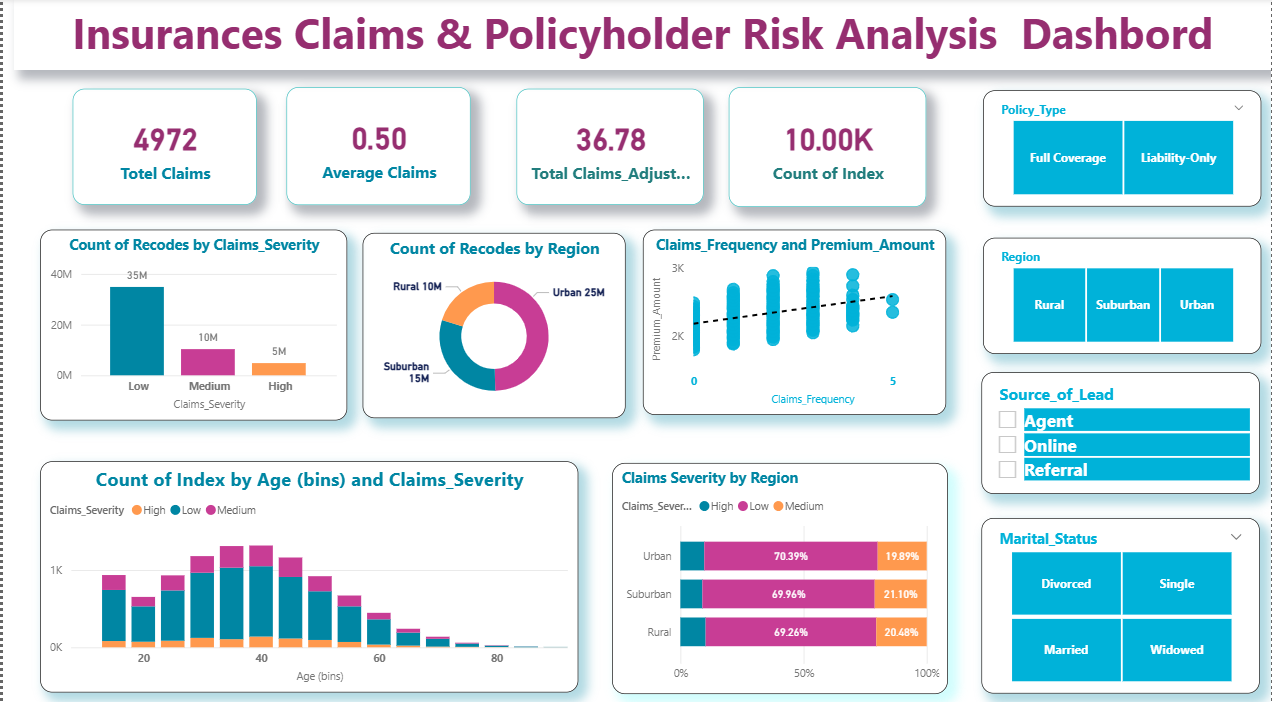

The dashboard page shown, as its layout file describes it:
{"tool":"powerbi","page":{"name":"Page 1","canvas":[1280,720],"ordinal":0},"visuals":[{"type":"textbox","box":[11,0,1269.1,72.3],"z":0},{"type":"card","fields":{"Values":["Sum(synthetic_insurance_data.Claims_Frequency)"]},"box":[69.8,91.9,185.5,117.5],"z":1000},{"type":"card","fields":{"Values":["Avg(synthetic_insurance_data.Claims_Frequency)"]},"box":[286,90.2,185.5,119.2],"z":2000},{"type":"card","fields":{"Values":["Avg(synthetic_insurance_data.Claims_Adjustment)"]},"box":[519.2,91.9,188.9,117.5],"z":3000},{"type":"columnChart","fields":{"Category":["synthetic_insurance_data.Claims_Severity"],"Y":["Sum(synthetic_insurance_data.Index)"]},"box":[37.4,233.2,309.8,192.4],"z":4000},{"type":"columnChart","fields":{"Y":["CountNonNull(synthetic_insurance_data.Index)"],"Category":["synthetic_insurance_data.Age (bins)"],"Series":["synthetic_insurance_data.Claims_Severity"]},"box":[37.4,468.1,543,233.2],"z":5000},{"type":"donutChart","fields":{"Y":["Sum(synthetic_insurance_data.Index)"],"Category":["synthetic_insurance_data.Region"]},"box":[362.6,236.6,265.5,187.2],"z":6000},{"type":"hundredPercentStackedBarChart","title":"Claims Severity by Region","fields":{"Category":["synthetic_insurance_data.Region"],"Y":["CountNonNull(synthetic_insurance_data.Index)"],"Series":["synthetic_insurance_data.Claims_Severity"]},"box":[614.5,469.8,338.7,233.2],"z":7000},{"type":"scatterChart","fields":{"X":["synthetic_insurance_data.Claims_Frequency"],"Y":["synthetic_insurance_data.Premium_Amount"]},"box":[646.8,233.2,306.4,187.2],"z":8000},{"type":"slicer","fields":{"Values":["synthetic_insurance_data.Policy_Type"]},"box":[989,93.6,280.9,117.5],"z":9000},{"type":"card","fields":{"Values":["Count(synthetic_insurance_data.Index)"]},"box":[732,90.2,199.2,120.9],"z":10000},{"type":"slicer","fields":{"Values":["synthetic_insurance_data.Marital_Status"]},"box":[987.3,524.3,280.9,177],"z":11000},{"type":"slicer","fields":{"Values":["synthetic_insurance_data.Region"]},"box":[989,241.7,280.9,117.5],"z":12000},{"type":"slicer","fields":{"Values":["synthetic_insurance_data.Source_of_Lead"]},"box":[987.3,377.9,280.9,122.6],"z":13000}]}

Visuals, with their boxes in screenshot pixels (x1, y1, x2, y2), scaled from the page's 1280x720 canvas onto the 1272x702 screenshot:
textbox: region(11, 0, 1271, 70)
card - Sum(synthetic_insurance_data.Claims_Frequency): region(69, 90, 254, 204)
card - Avg(synthetic_insurance_data.Claims_Frequency): region(284, 88, 469, 204)
card - Avg(synthetic_insurance_data.Claims_Adjustment): region(516, 90, 704, 204)
columnChart - synthetic_insurance_data.Claims_Severity x Sum(synthetic_insurance_data.Index): region(37, 227, 345, 415)
columnChart - CountNonNull(synthetic_insurance_data.Index) x synthetic_insurance_data.Age (bins): region(37, 456, 577, 684)
donutChart - Sum(synthetic_insurance_data.Index) x synthetic_insurance_data.Region: region(360, 231, 624, 413)
"Claims Severity by Region" hundredPercentStackedBarChart: region(611, 458, 947, 685)
scatterChart - synthetic_insurance_data.Claims_Frequency x synthetic_insurance_data.Premium_Amount: region(643, 227, 947, 410)
slicer - synthetic_insurance_data.Policy_Type: region(983, 91, 1262, 206)
card - Count(synthetic_insurance_data.Index): region(727, 88, 925, 206)
slicer - synthetic_insurance_data.Marital_Status: region(981, 511, 1260, 684)
slicer - synthetic_insurance_data.Region: region(983, 236, 1262, 350)
slicer - synthetic_insurance_data.Source_of_Lead: region(981, 368, 1260, 488)
